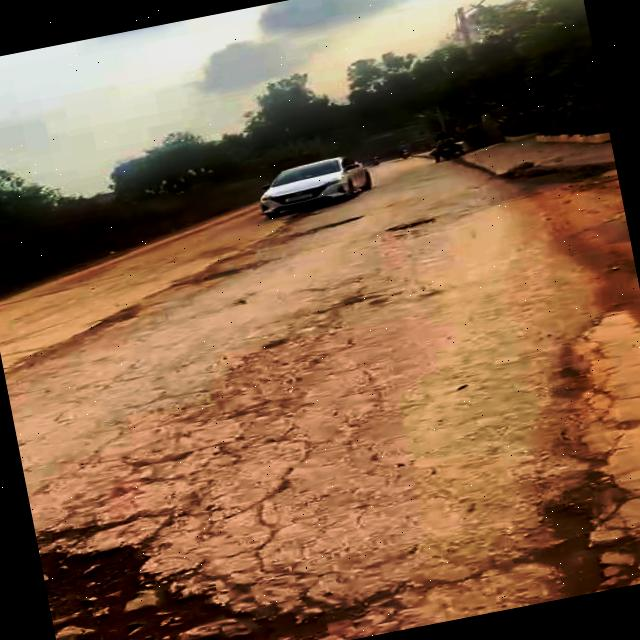pothole: (37, 489, 323, 640), (517, 448, 640, 603)
